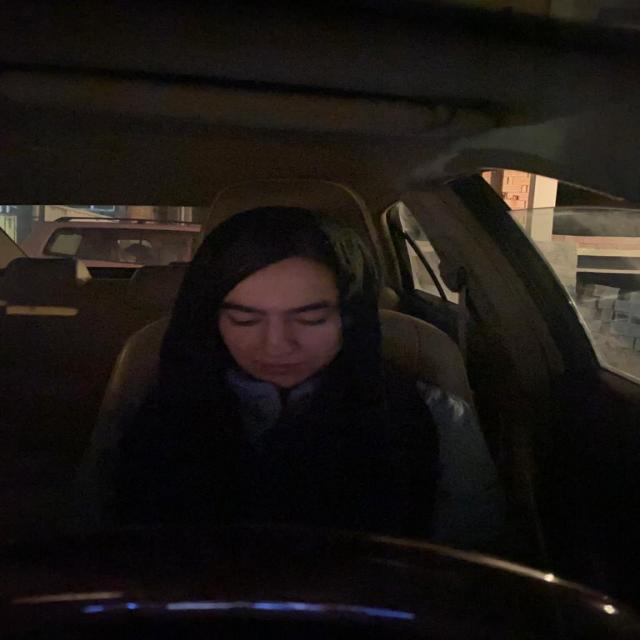drowsy: (184, 229, 372, 398)
